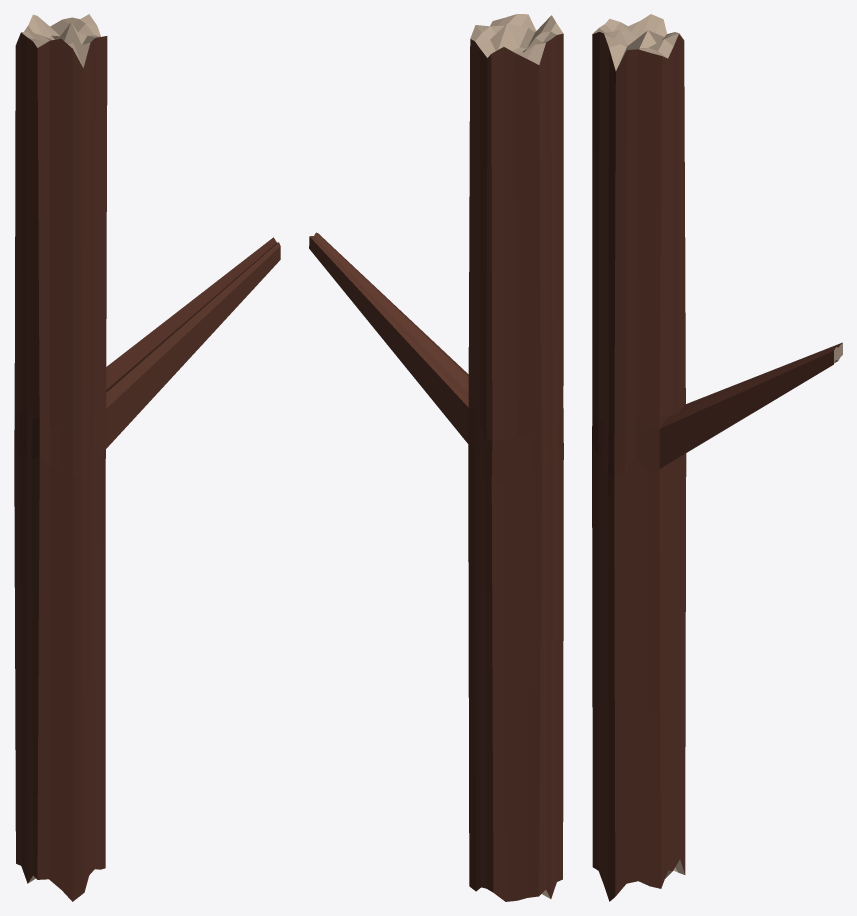
The model's file is Resource_Wood_Small.fbx.
The picture shows the model from 3 angles, left to right: view 1: azimuth 30°, elevation 25°; view 2: azimuth 150°, elevation 25°; view 3: azimuth 330°, elevation 25°; orthographic projection.
Visible parts, largest first — view 1: Cylinder; view 2: Cylinder; view 3: Cylinder.
Boxes of the visible parts, x1,y1,x2,y2 form: Cylinder: [14, 14, 280, 901]; Cylinder: [309, 14, 563, 901]; Cylinder: [592, 14, 842, 901].
Size of the model in its own units: 123 by 415 by 41.63.
